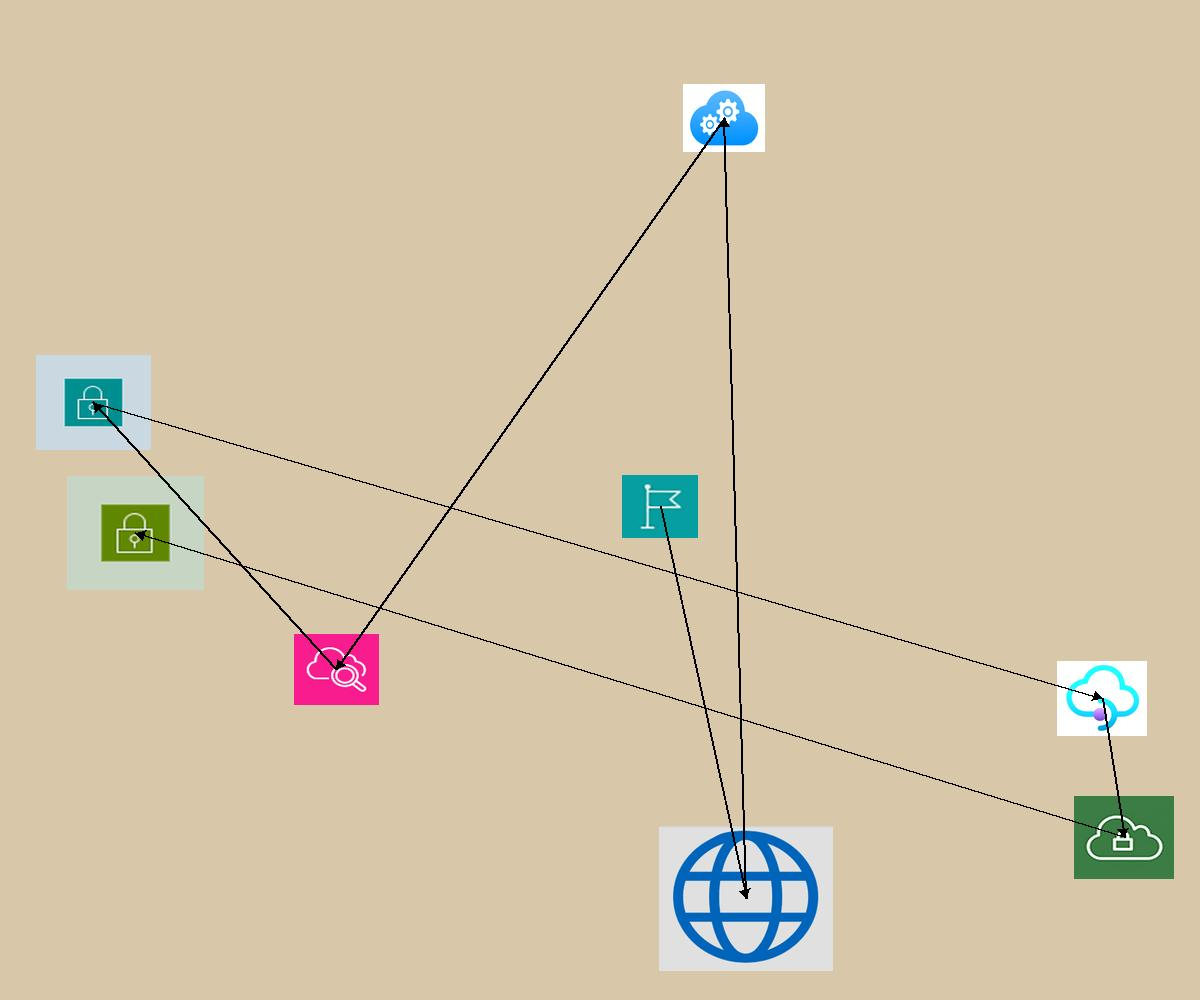AWS-CloudWatch: (294, 634, 379, 705)
AWS-Private-subnet: (36, 355, 151, 450)
AWS-Private_vpc: (1074, 796, 1174, 879)
AWS-Public-subnet: (67, 476, 204, 590)
AWS-Region: (622, 475, 698, 538)
Azure_api_gateway: (1057, 661, 1147, 736)
Azure_cloud_services: (683, 84, 765, 152)
Azure_http: (659, 826, 833, 971)
